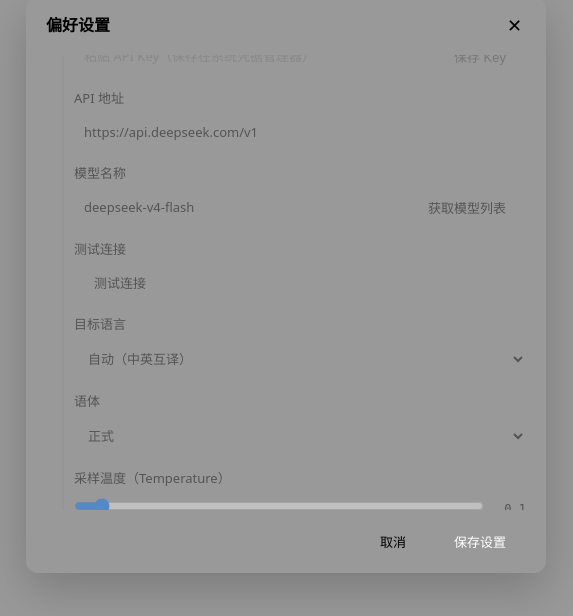
it: v0.6.0 SettingsDialog AI 翻译分组 › 测试连接失败：显示失败状态与错误详情
(page scrolled)
What coordinates should you click on to do the following:
click the button with test id "translate-test-btn"
I would click on:
 (120, 283)
Its box is top-left (74, 265), bottom-right (166, 300).
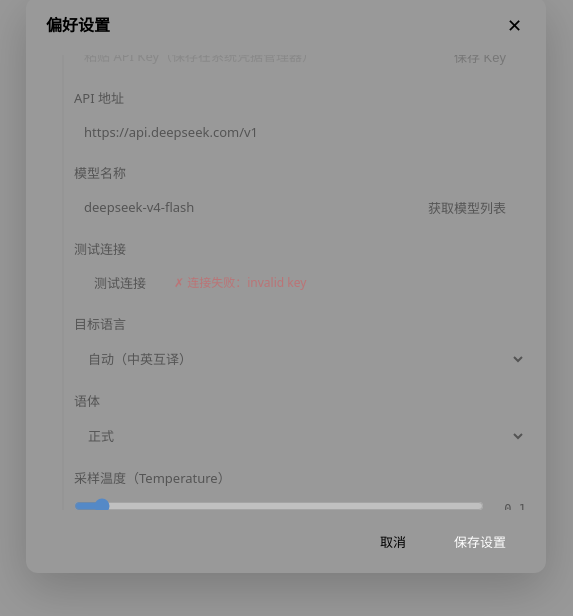
Now the text with test id "translate-test-status" shows "连接失败", box top-left (187, 274), bottom-right (235, 291)
Now the text with test id "translate-test-status" shows "invalid key", box top-left (235, 274), bottom-right (306, 291)
